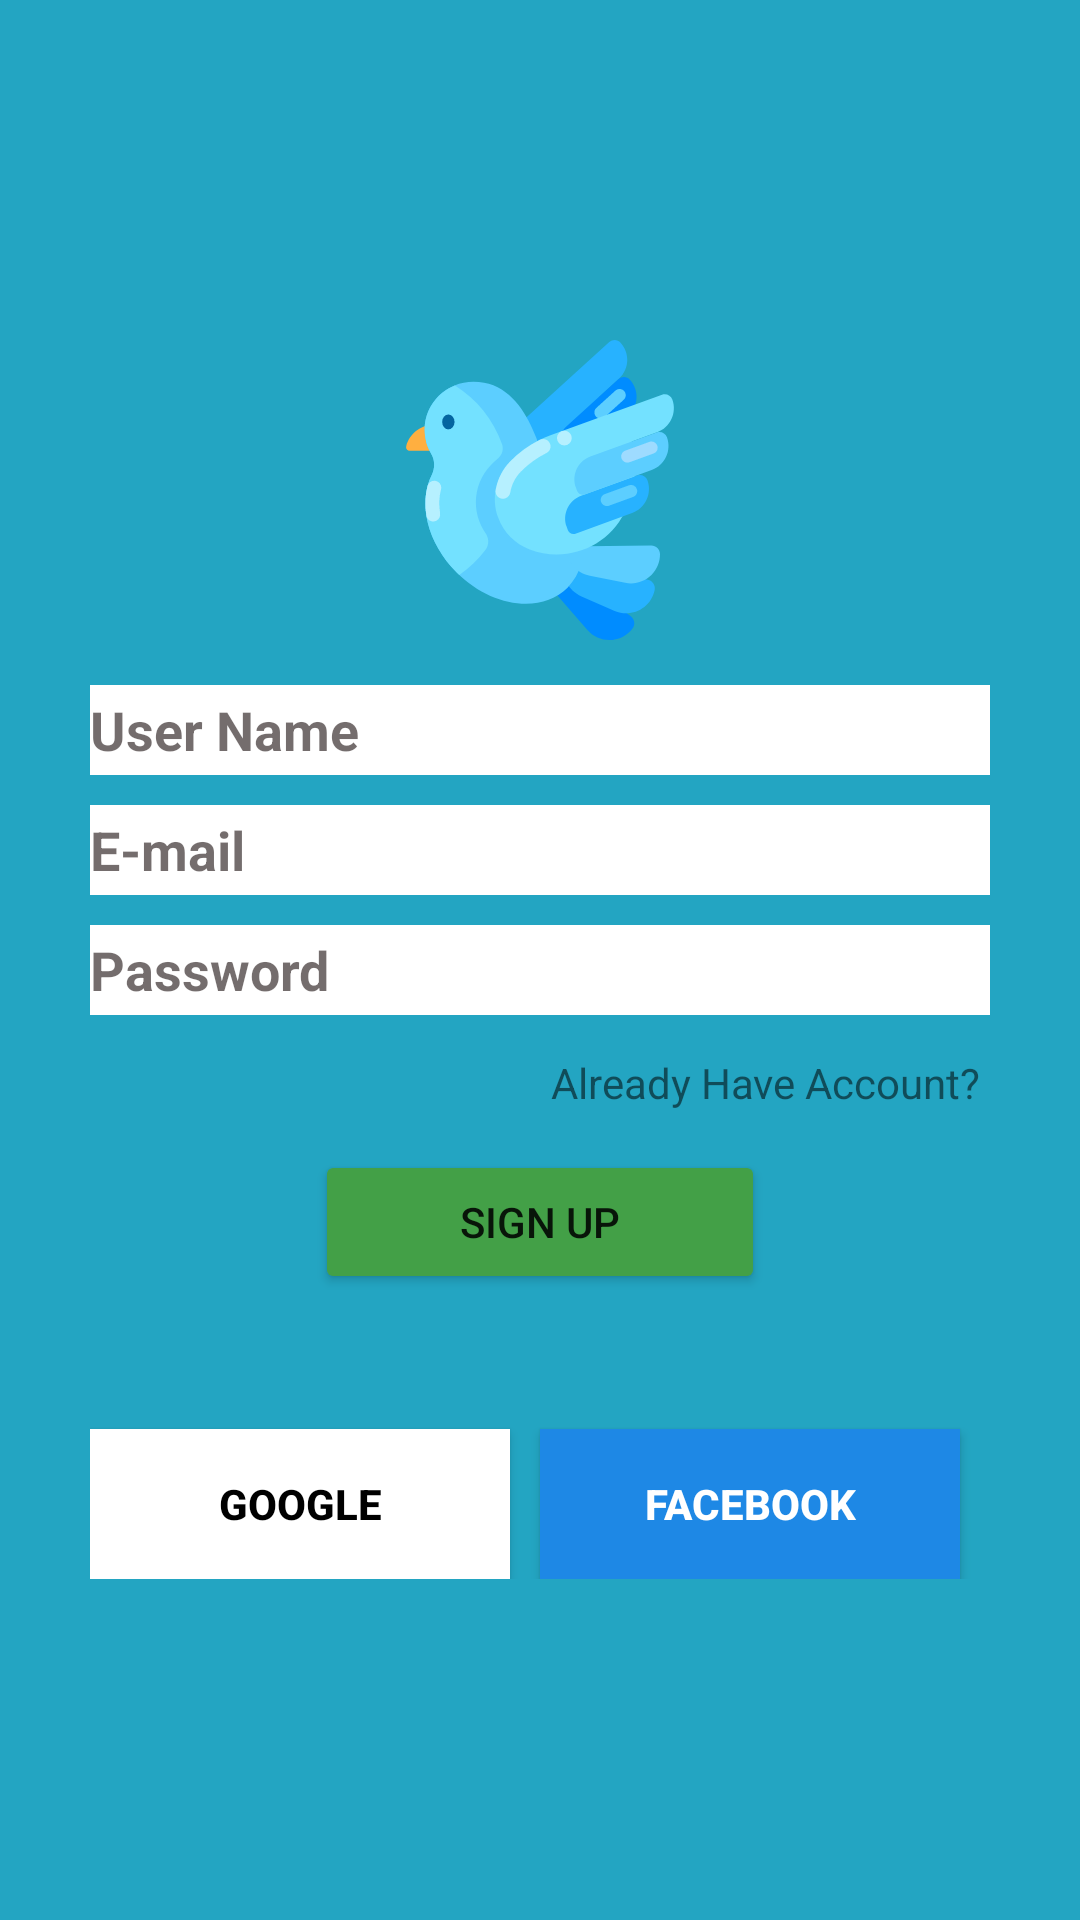

Icons on this 1080w x 1920h Android screen, each with the point to tap as (x=x, y=y):
dove: (x=540, y=490)
